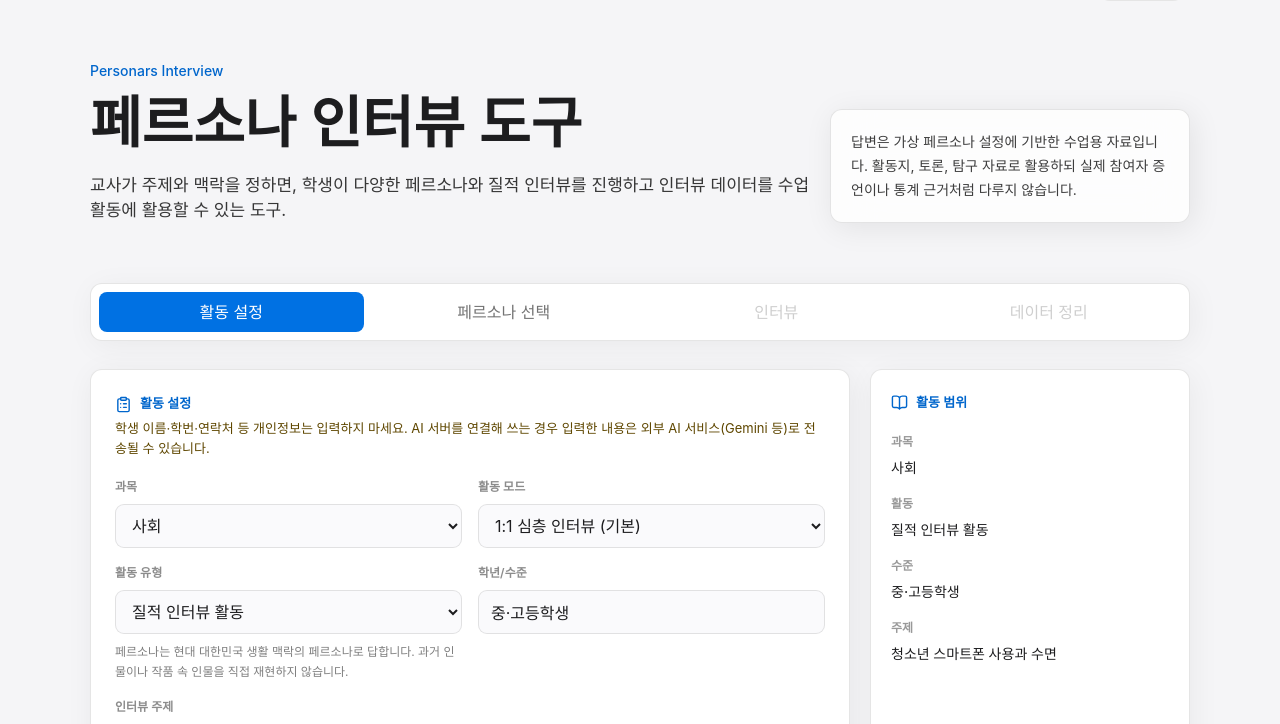
Test: starts persona selection from classroom activity settings
Select "국어" in the dropdown labelled "과목" at (288, 526), box [115,504,462,548]
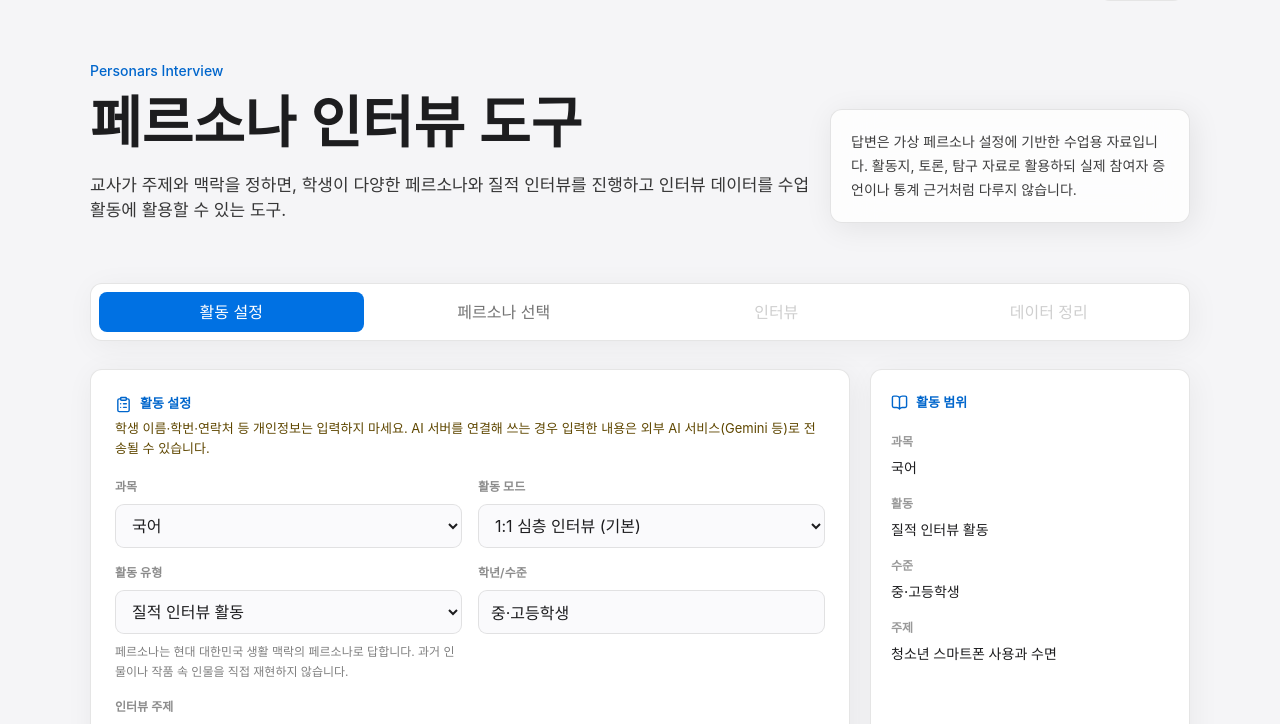
Select "작품·텍스트 독자 반응 탐색" in the dropdown labelled "활동 유형" at (288, 612), box [115,590,462,634]
(page scrolled)
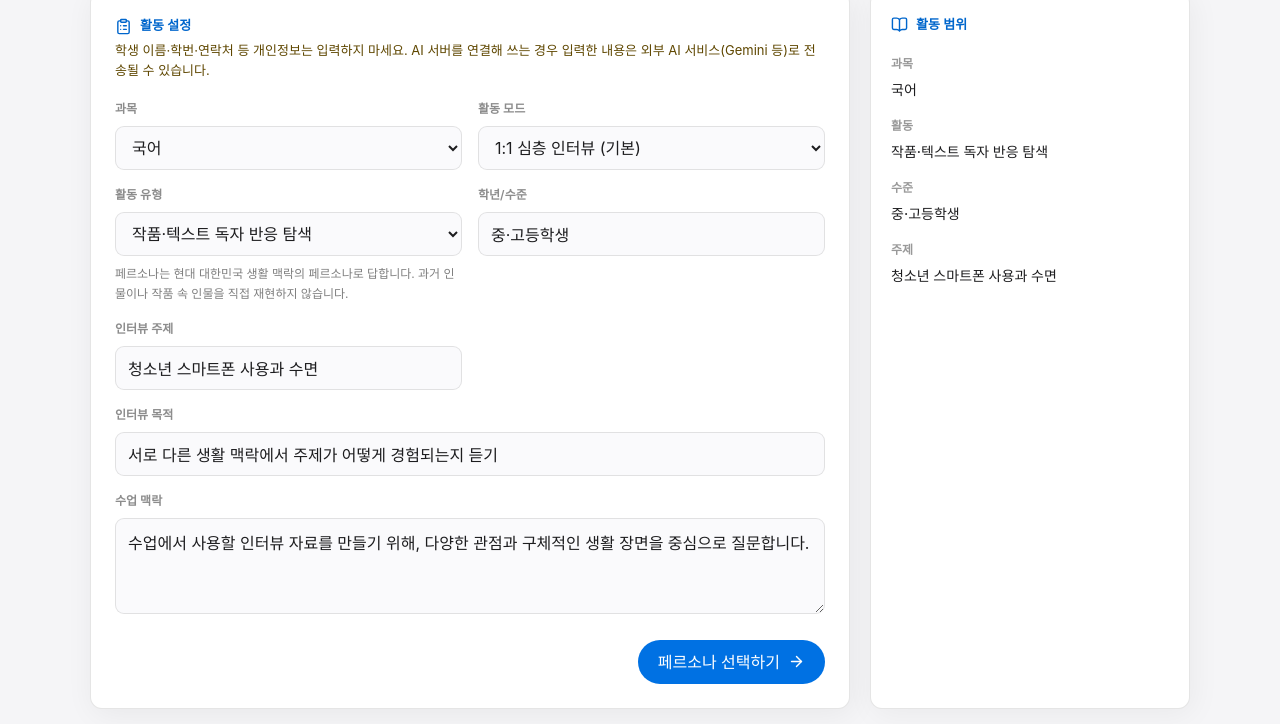
Replace the text in the field labelled "인터뷰 주제" with "지역 서점이 청소년 독서 경험에 주는 영향" at (288, 368), box [115,346,462,390]
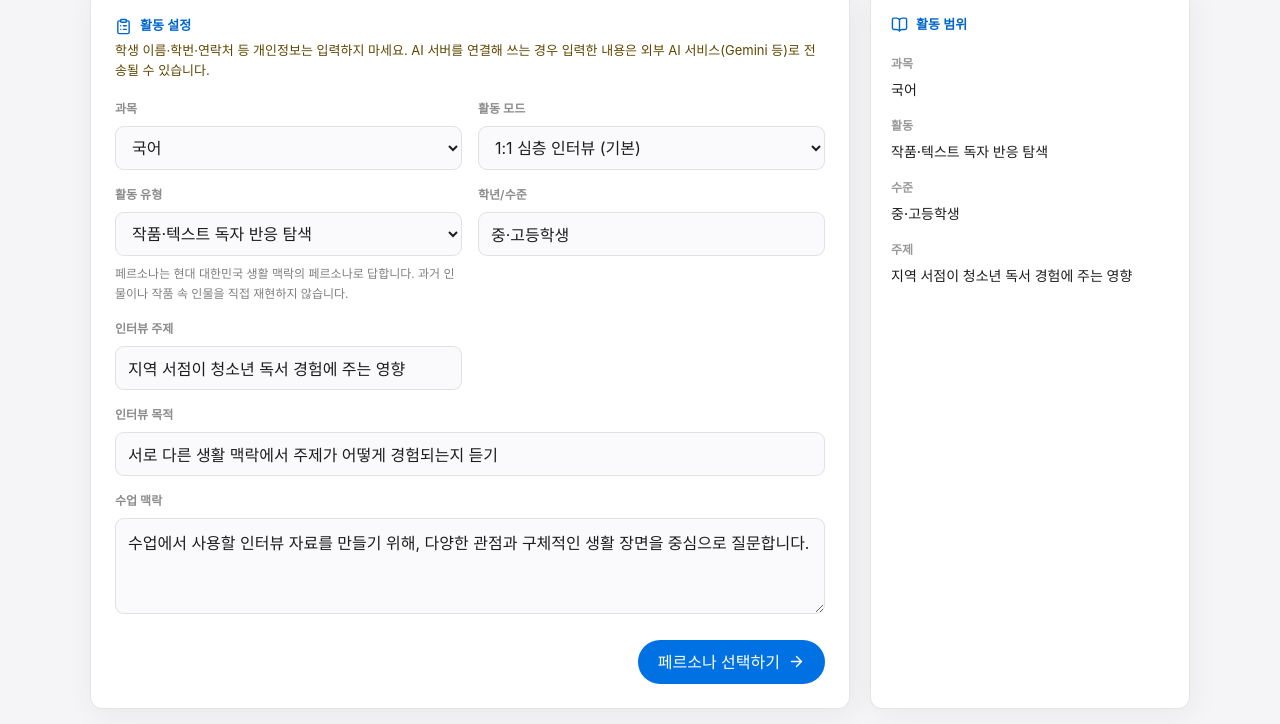
Replace the text in the field labelled "인터뷰 목적" with "서점 이용 경험과 독서 동기를 깊게 듣기" at (470, 454), box [115,432,825,476]
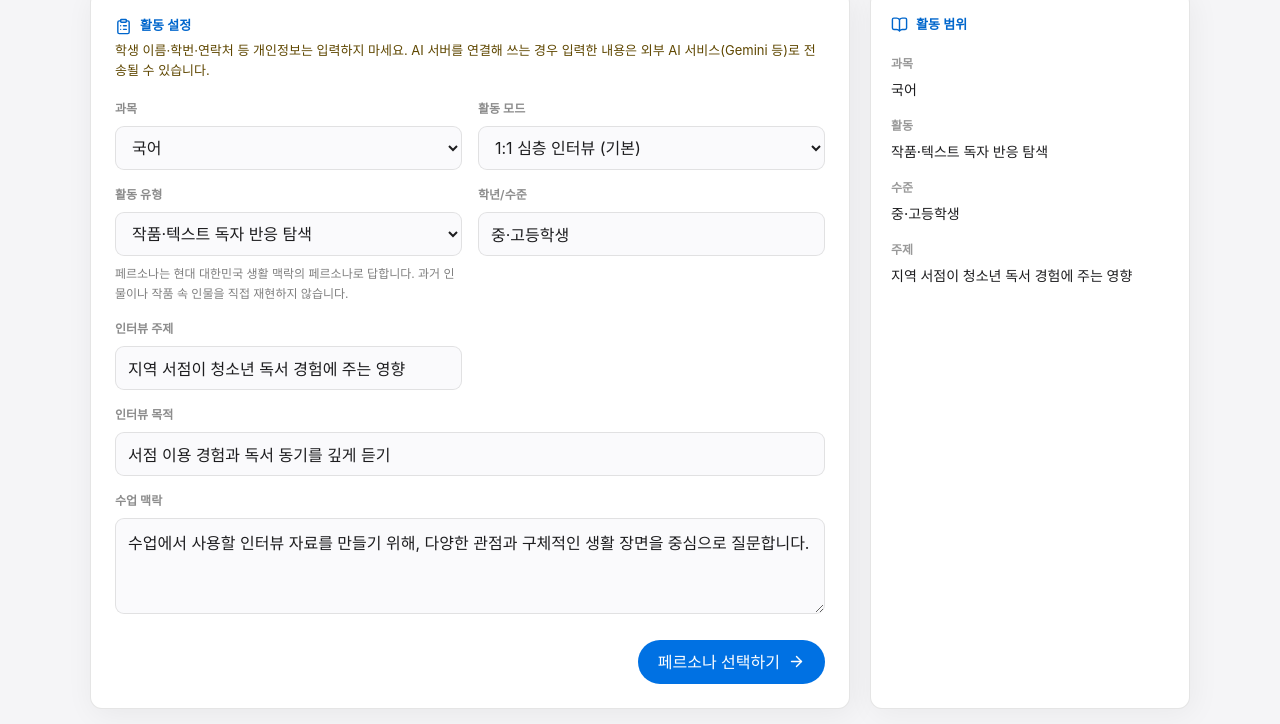
Click the button "페르소나 선택하기" at (731, 662), box [638,640,825,684]
(page scrolled)
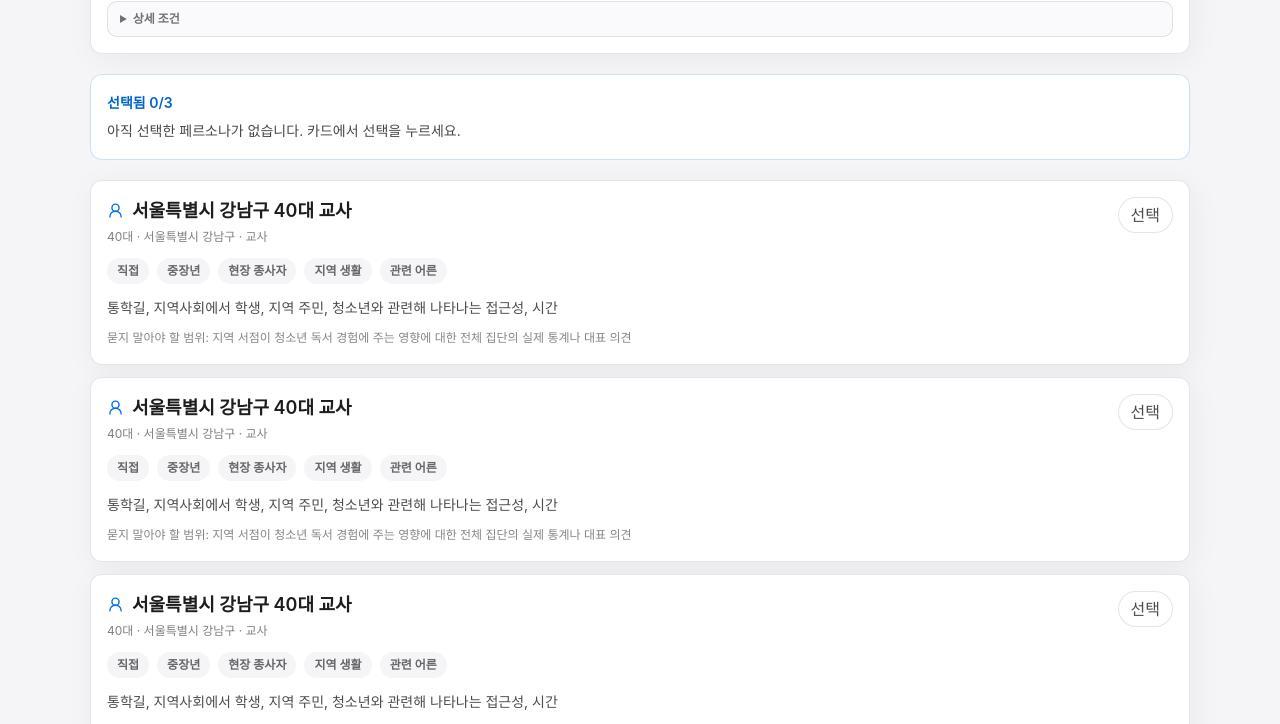
Check: the 1st text "지역 서점이 청소년 독서 경험에 주는 영향" is shown, box [212,330,632,345]
